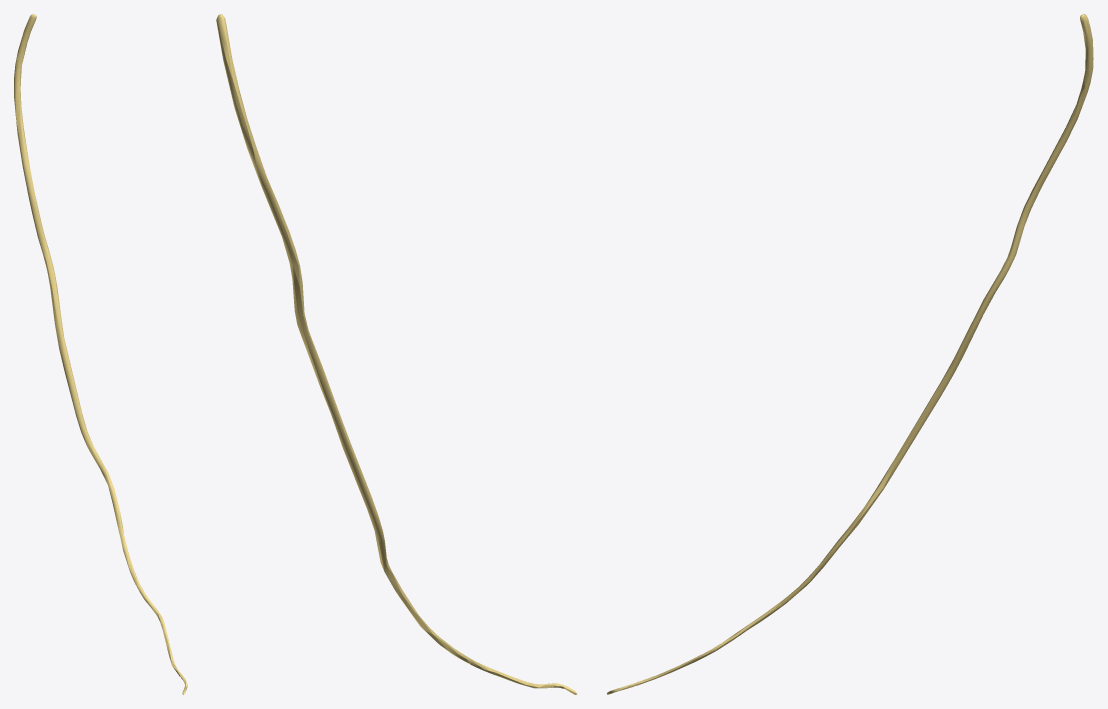
The model's file is fma44871_fj4286.glb.
The picture shows the model from 3 angles, left to right: view 1: azimuth 30°, elevation 25°; view 2: azimuth 150°, elevation 25°; view 3: azimuth 270°, elevation 25°; orthographic projection. The views are drawn at different scales.
Parts seen in each view (by area): view 1: FMA44871_FJ4286; view 2: FMA44871_FJ4286; view 3: FMA44871_FJ4286.
Boxes of the visible parts, x1,y1,x2,y2 form: FMA44871_FJ4286: (14, 14, 187, 694); FMA44871_FJ4286: (216, 14, 577, 694); FMA44871_FJ4286: (607, 14, 1093, 694).
Bounding box in the file's own units: 0.00733 × 0.1033 × 0.065.
